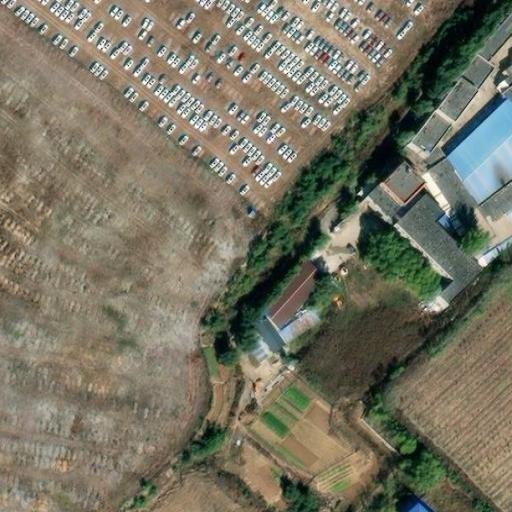building: (385, 203, 474, 315), (423, 167, 508, 265), (439, 102, 512, 210), (251, 265, 322, 337), (468, 14, 512, 72), (373, 179, 418, 225), (428, 94, 469, 140), (402, 125, 441, 168), (484, 183, 512, 238), (454, 66, 491, 106), (248, 327, 279, 363), (492, 75, 512, 114), (395, 495, 436, 512)
